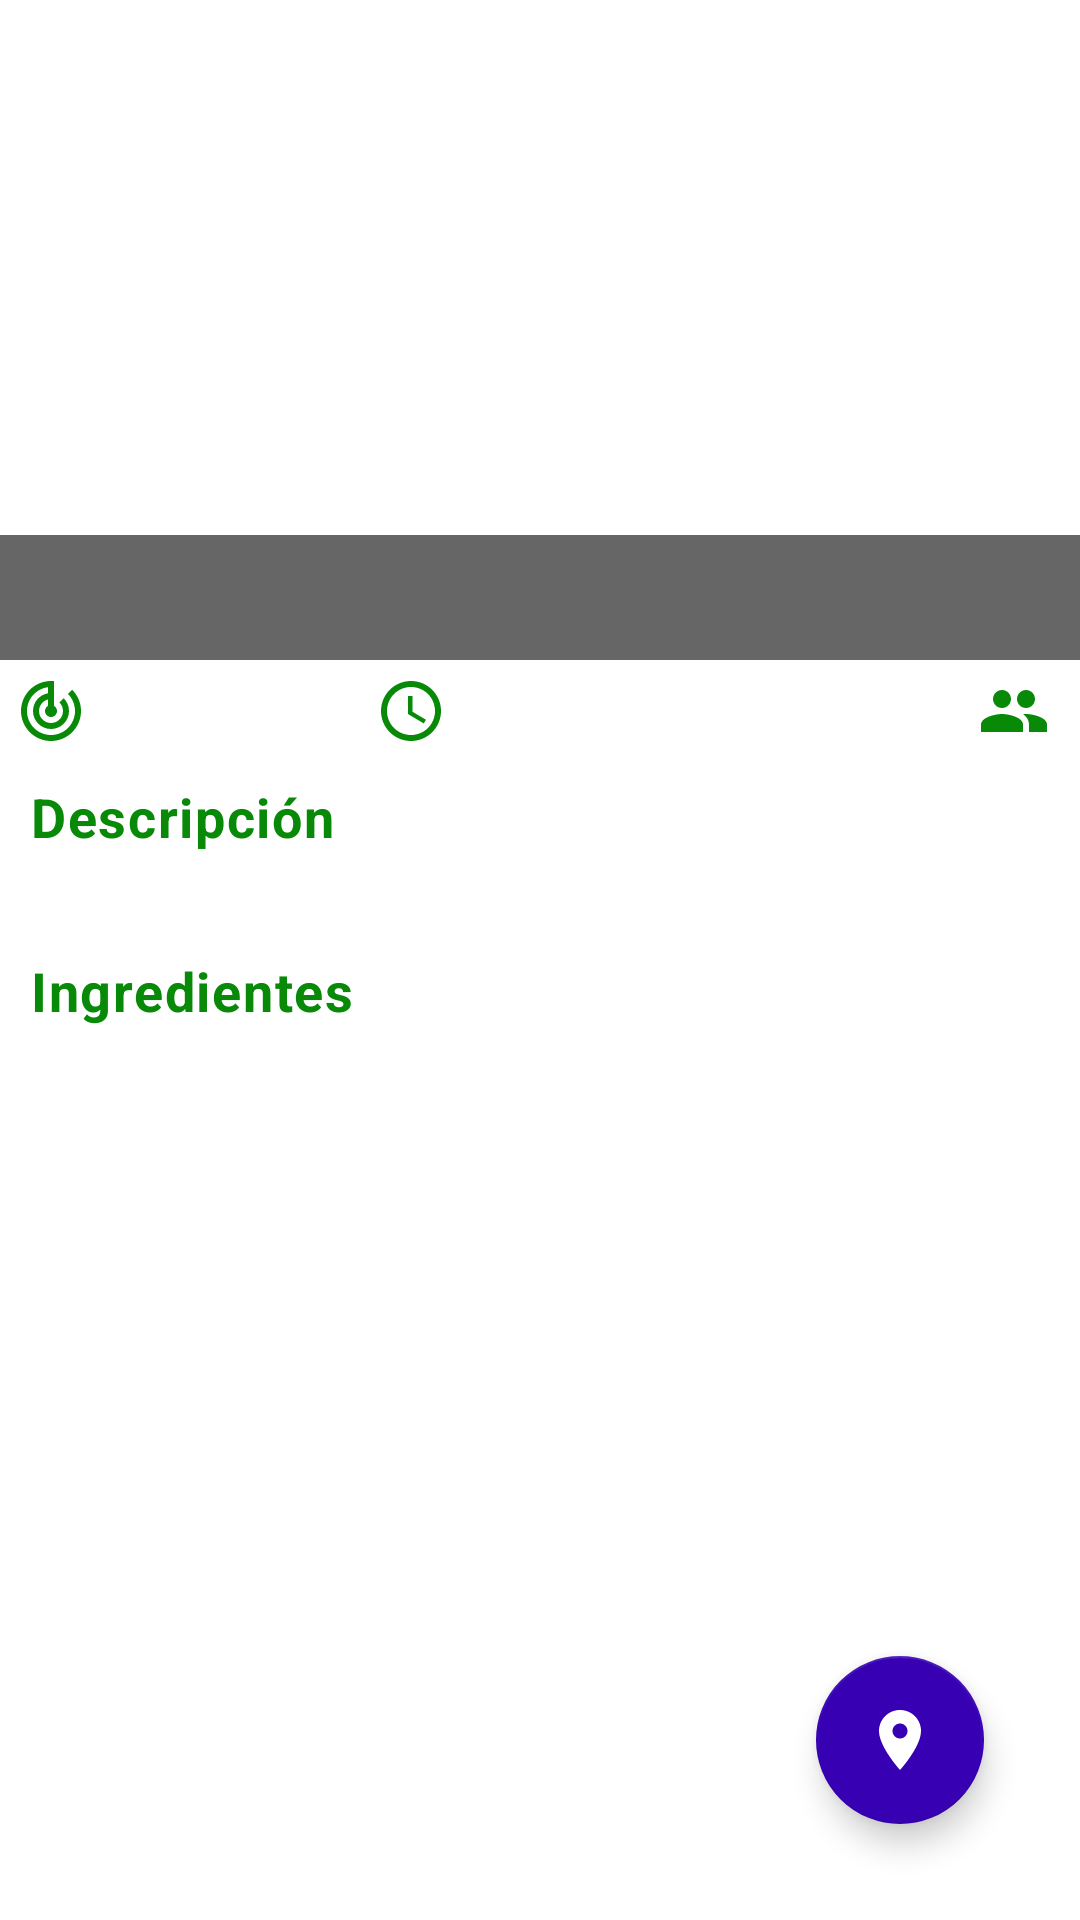

Named icons in this screenshot (1080px x 1920px) and their centers, [x,y]:
difficulty: [51,711]
location: [900,1740]
persons: [1014,711]
time: [411,711]
